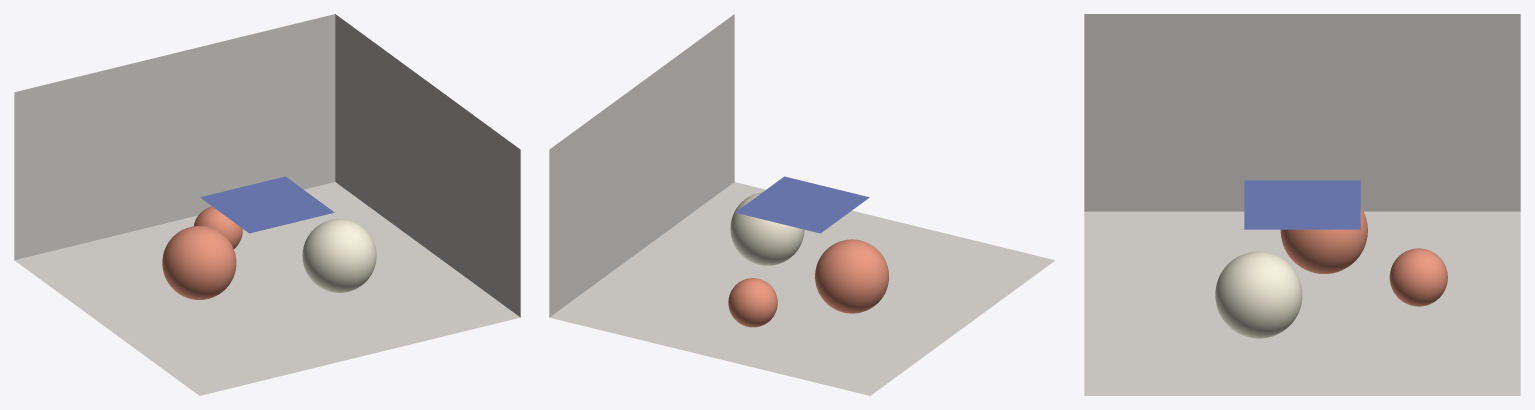
The model's file is many_lights.gltf.
The picture shows the model from 3 angles, left to right: view 1: azimuth 30°, elevation 25°; view 2: azimuth 150°, elevation 25°; view 3: azimuth 270°, elevation 25°; orthographic projection. The views are drawn at different scales.
Bounding box in the file's own units: 6 × 3 × 6.
